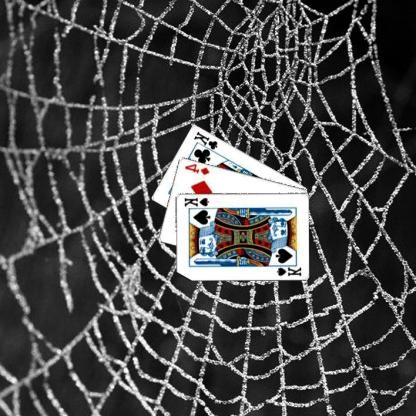4D: (184, 161, 212, 176)
KC: (193, 128, 220, 154)
KS: (273, 261, 304, 277), (184, 195, 212, 207)
